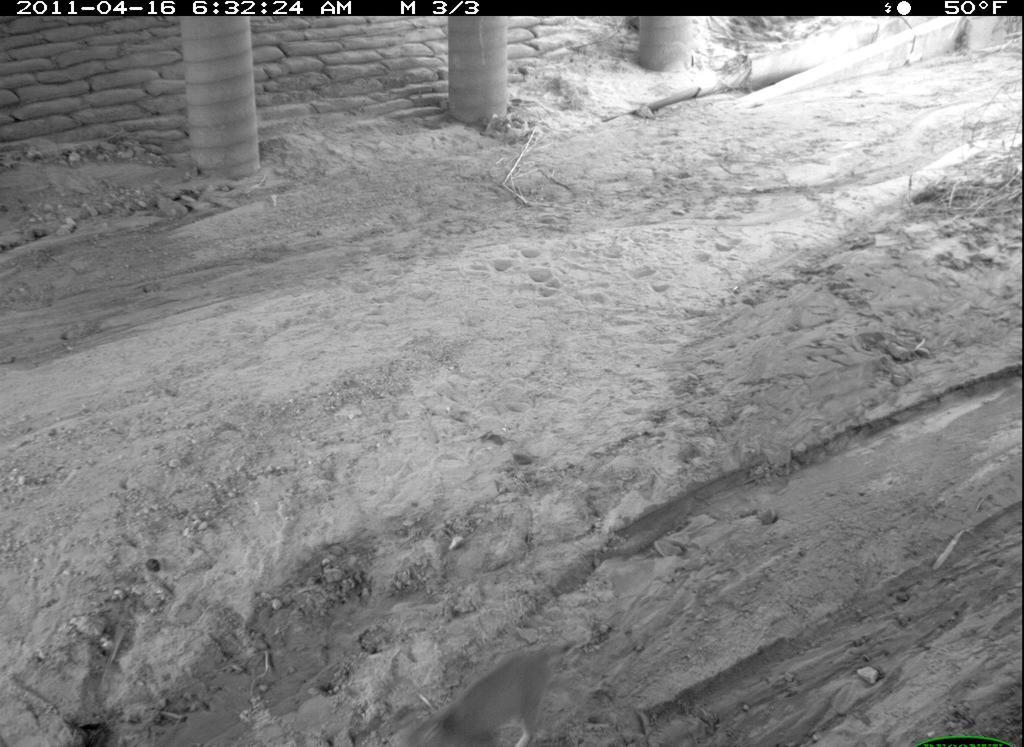bobcat: (399, 635, 583, 747)
